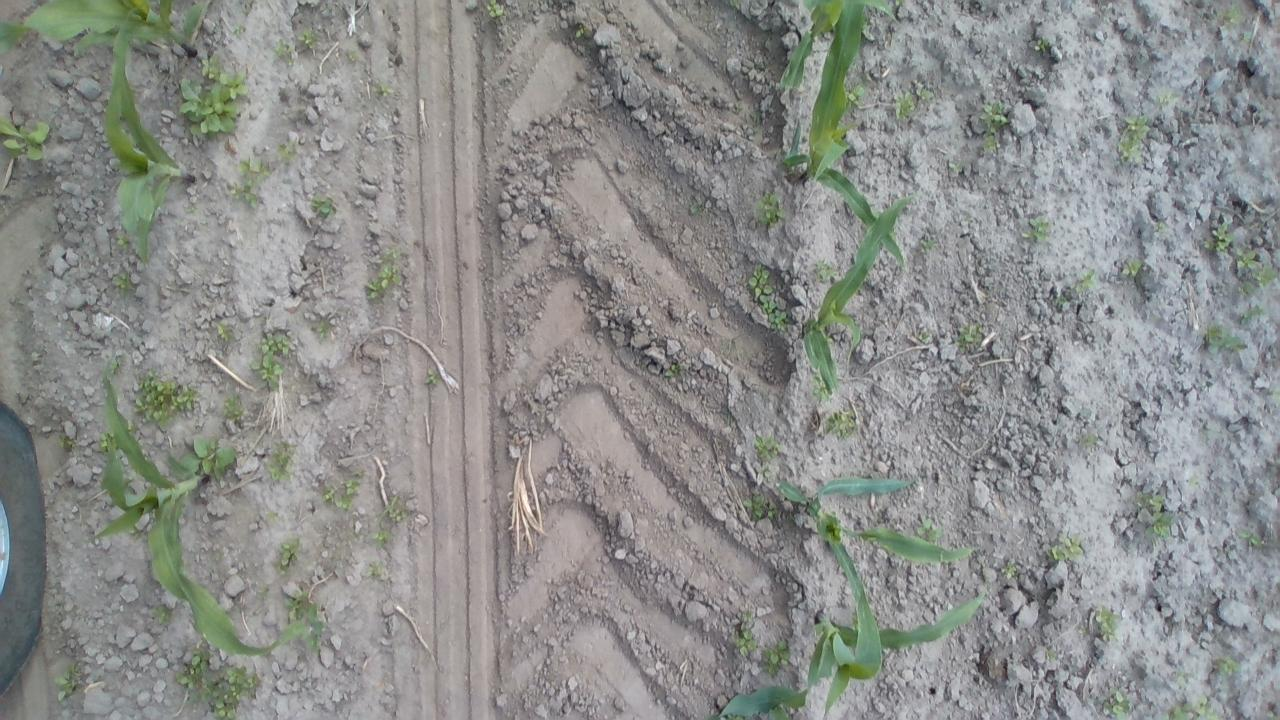Maize: (92, 346, 314, 656), (714, 579, 992, 720), (783, 1, 906, 265), (104, 6, 203, 266), (776, 473, 978, 598), (802, 194, 916, 398), (0, 0, 209, 57), (777, 0, 899, 94)
Weeds: (178, 68, 250, 136), (129, 367, 204, 430), (200, 668, 262, 718), (364, 242, 406, 304), (749, 262, 788, 328), (251, 330, 292, 392), (284, 592, 324, 654), (0, 117, 51, 164), (184, 434, 238, 478), (1234, 246, 1278, 296), (1116, 112, 1150, 168), (269, 534, 307, 578), (172, 645, 209, 690), (324, 468, 363, 510), (1164, 694, 1218, 720), (760, 634, 791, 678), (1204, 322, 1242, 357), (269, 440, 299, 484), (52, 662, 86, 700), (728, 610, 756, 656), (1048, 530, 1086, 562), (225, 178, 262, 210), (954, 317, 984, 354), (1102, 685, 1134, 718), (1096, 604, 1122, 644), (756, 195, 788, 227), (978, 100, 1009, 132), (222, 387, 248, 425), (824, 408, 856, 437), (1021, 212, 1049, 242), (1214, 0, 1243, 28), (1202, 223, 1232, 250), (308, 196, 339, 222), (1142, 512, 1174, 537), (241, 158, 274, 182), (753, 432, 780, 461), (1132, 490, 1166, 512), (274, 37, 298, 68), (742, 492, 766, 522), (914, 516, 942, 541), (892, 91, 916, 120), (810, 373, 831, 406), (384, 495, 410, 521), (1153, 87, 1180, 112), (1072, 266, 1096, 294), (1214, 654, 1241, 678), (812, 258, 837, 282), (1240, 304, 1270, 324), (843, 83, 865, 109), (1076, 430, 1104, 450), (1236, 528, 1264, 548), (310, 316, 333, 340), (152, 605, 174, 630), (276, 140, 300, 162), (112, 271, 134, 293), (216, 321, 236, 345), (1120, 256, 1141, 278), (1001, 556, 1018, 582), (299, 28, 319, 50), (918, 232, 938, 254), (202, 55, 220, 78), (423, 366, 442, 387), (372, 529, 392, 548), (98, 430, 116, 450), (56, 431, 73, 452), (980, 132, 998, 151), (946, 161, 964, 179), (486, 0, 504, 18), (749, 108, 766, 127), (117, 228, 131, 250), (916, 86, 938, 100), (372, 81, 392, 96), (364, 561, 380, 578), (1051, 294, 1068, 310), (109, 358, 123, 377), (665, 363, 680, 380), (689, 199, 706, 214), (1031, 38, 1049, 52), (1174, 669, 1188, 686), (344, 48, 357, 66), (184, 202, 200, 215), (232, 26, 248, 38), (766, 507, 782, 519), (1045, 646, 1057, 661), (257, 586, 270, 598), (1186, 473, 1198, 486), (264, 510, 278, 521), (1240, 29, 1249, 45), (575, 27, 586, 38), (1154, 222, 1165, 233), (732, 101, 742, 113), (921, 330, 930, 343), (727, 714, 746, 720), (725, 1, 741, 8), (1078, 626, 1084, 634)
